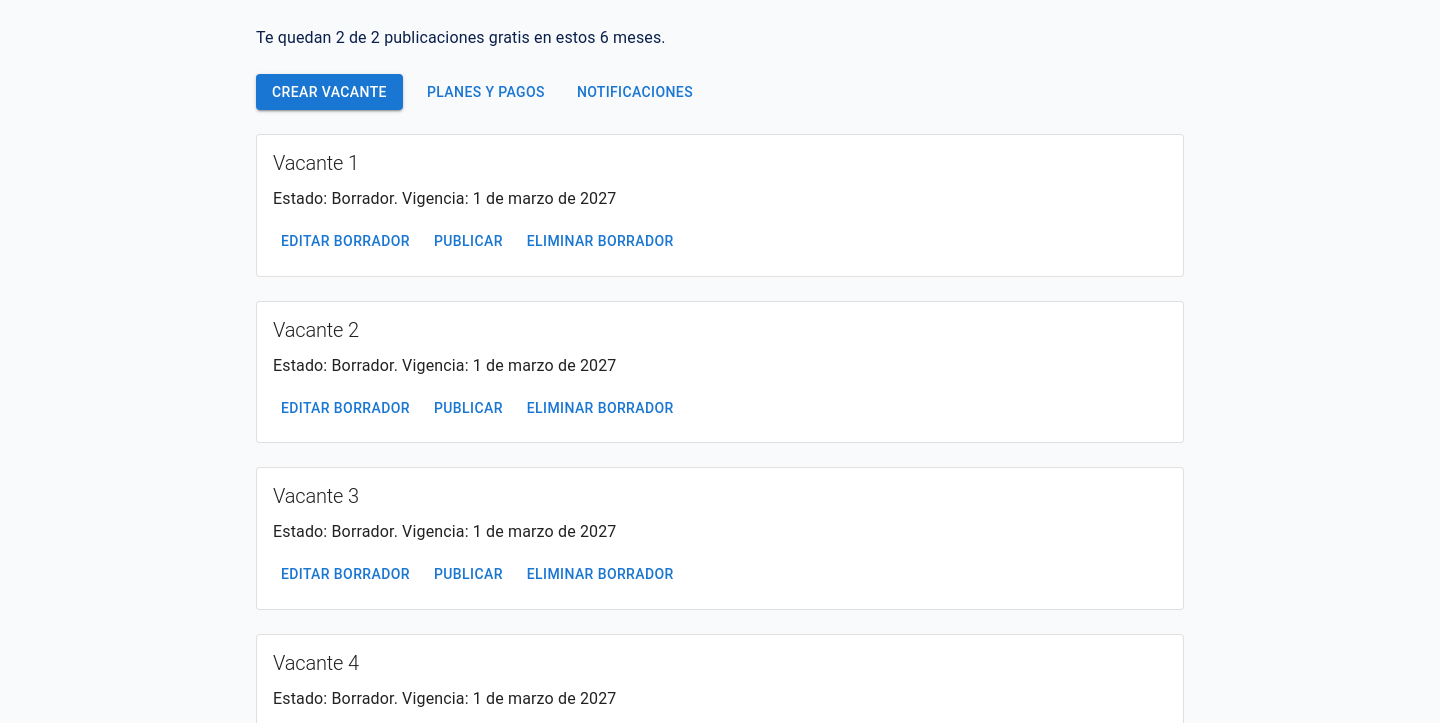
Test: MisVacantes › tras una acción fallida, cambiar de página con éxito quita el aviso
Click the 1st button "Publicar": click(468, 241) [426, 223, 511, 260]
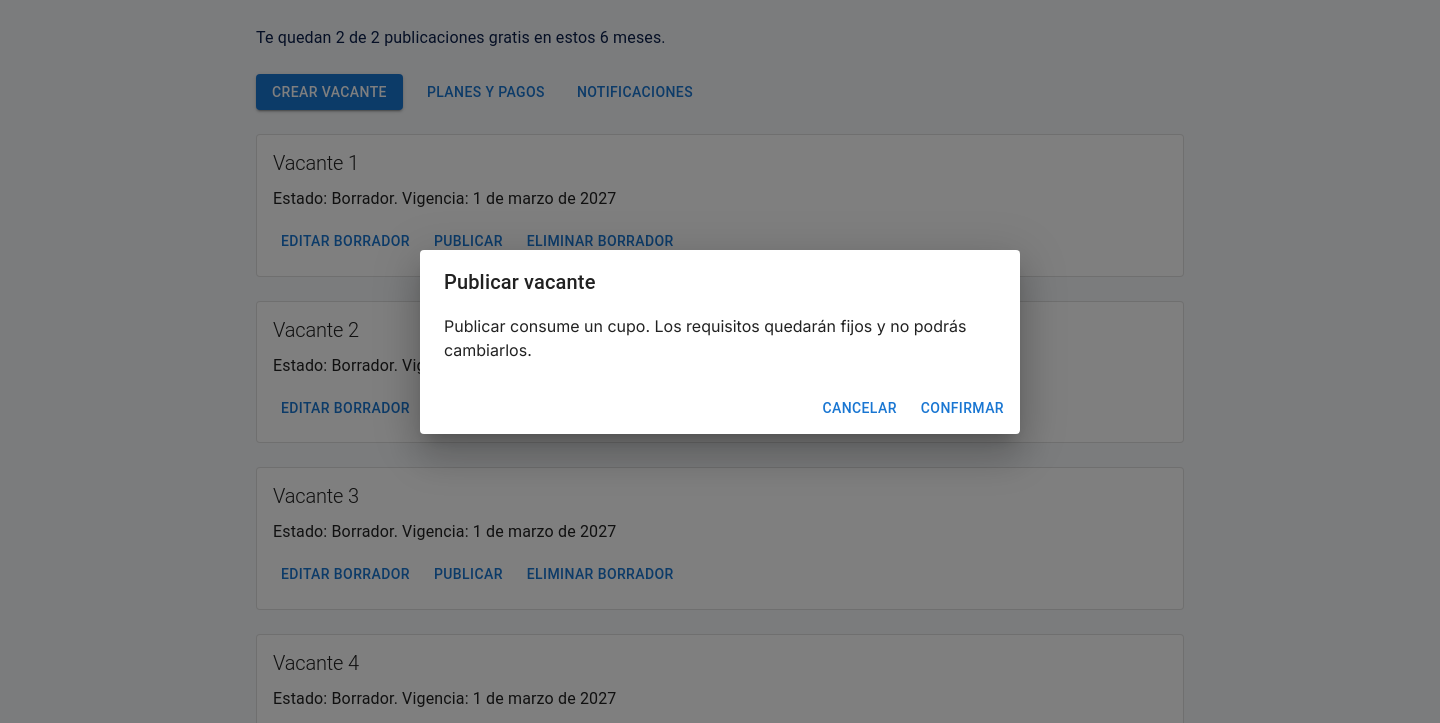
Click the button "Confirmar": click(962, 408) [913, 390, 1012, 426]
(page scrolled)
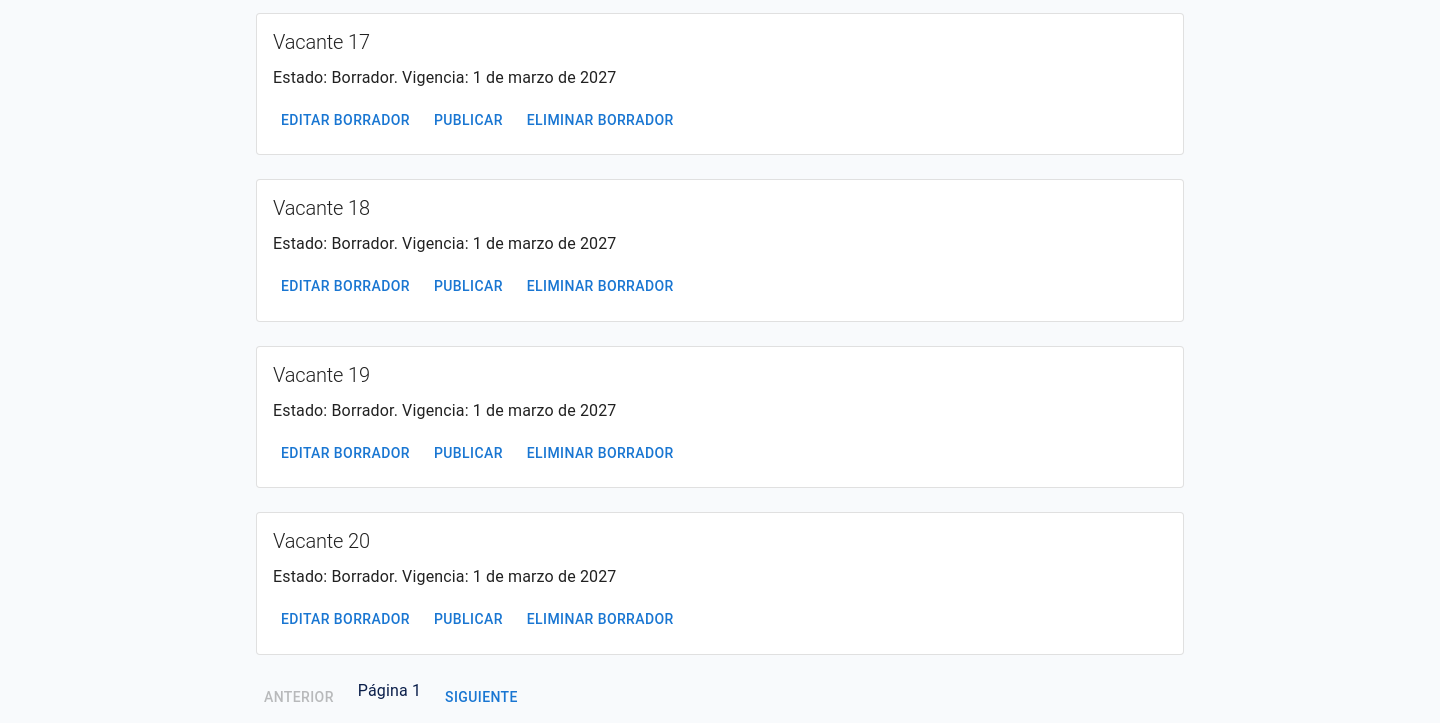
Now the dialog is gone
Click the button "Siguiente": click(481, 697) [437, 679, 526, 715]
(page scrolled)
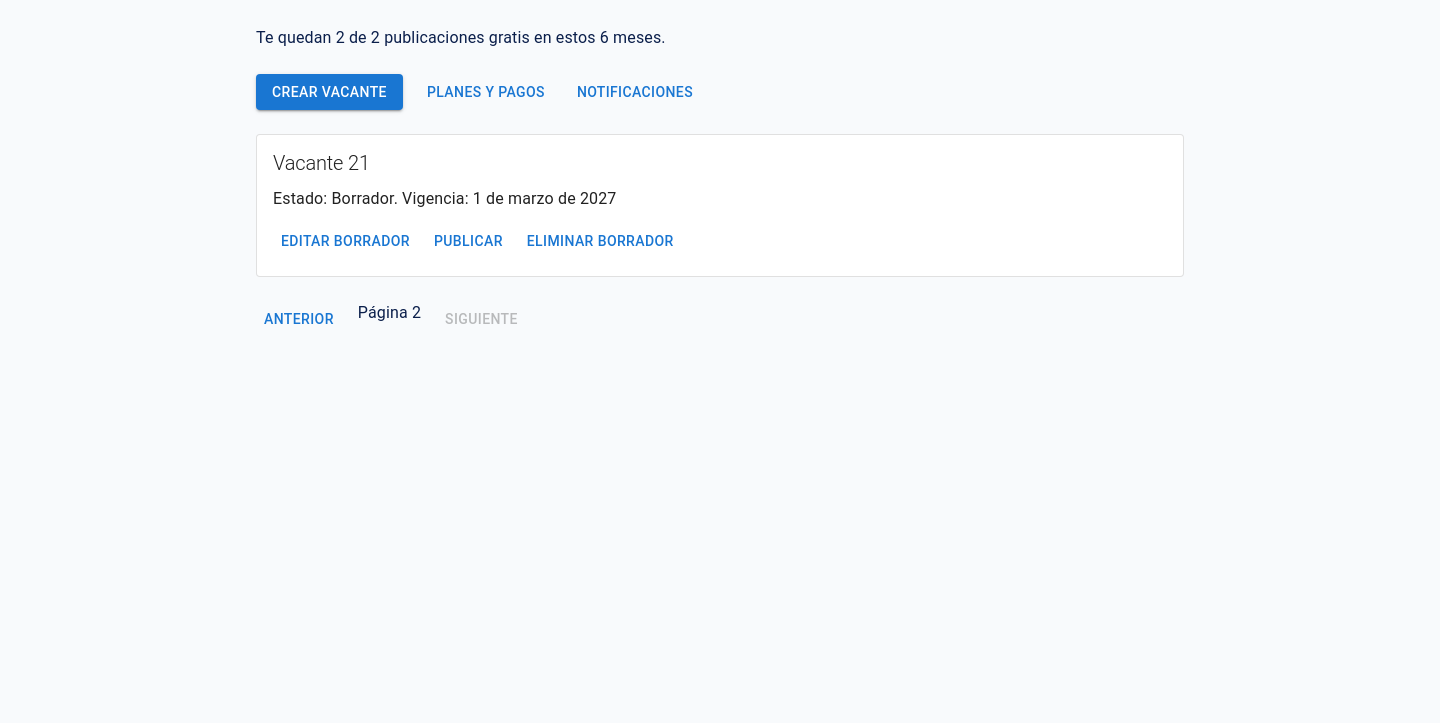
Now the heading "Vacante 21" is shown, box [273, 151, 370, 175]
